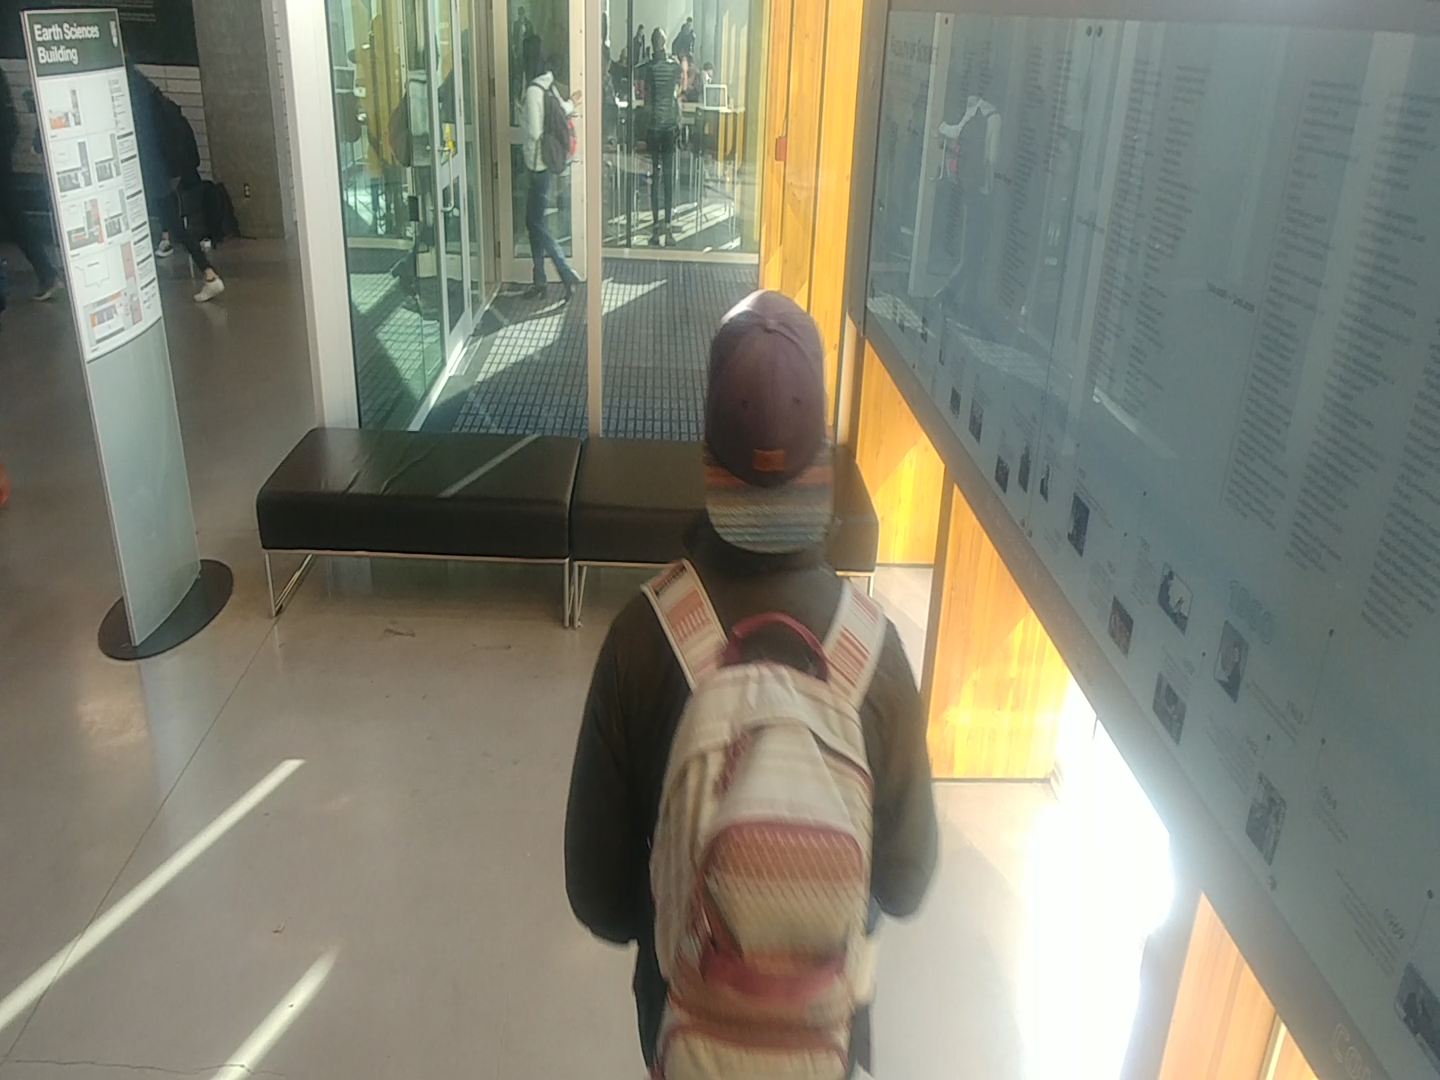face: (687, 272, 858, 580), (515, 23, 556, 96), (634, 14, 672, 62)
human: (548, 270, 965, 1077), (119, 38, 225, 308), (504, 25, 587, 313), (633, 16, 688, 266)
